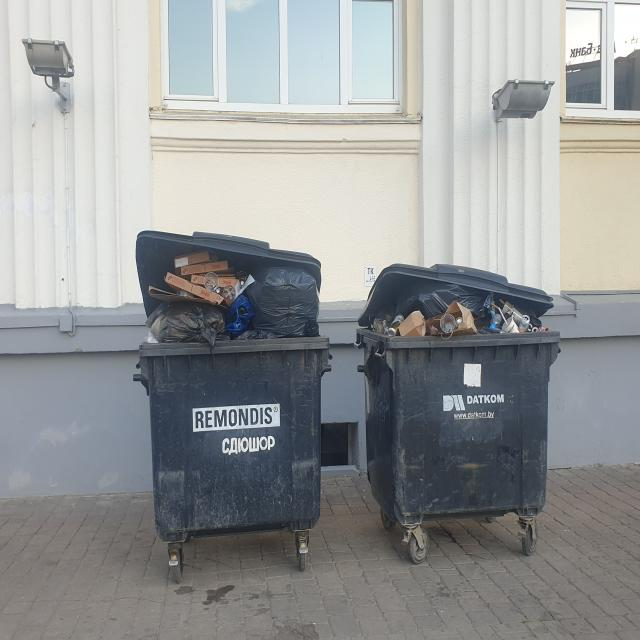bin: (141, 341, 330, 542), (360, 330, 558, 521)
plastic: (145, 252, 321, 340), (368, 282, 542, 338)
